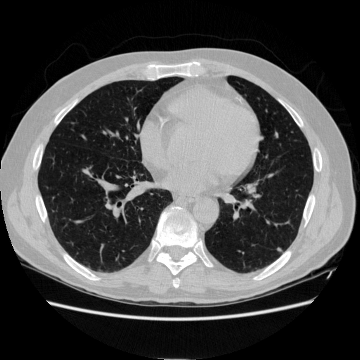nodule: (277, 247, 281, 251)
